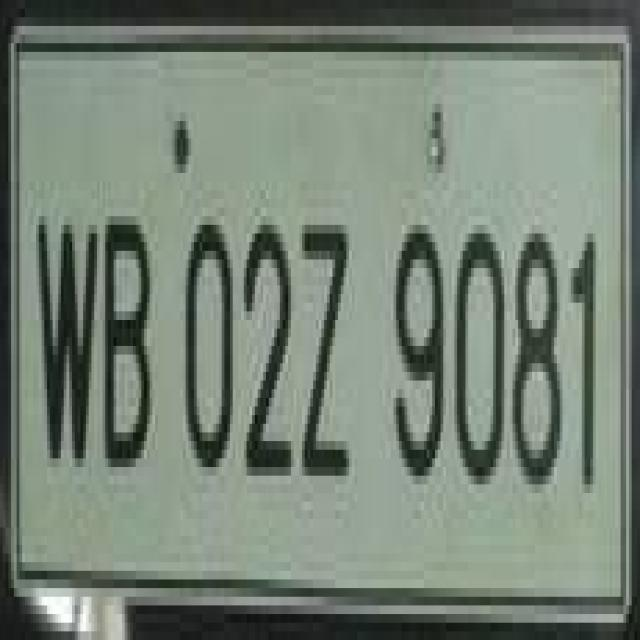plate: (19, 43, 640, 597)
